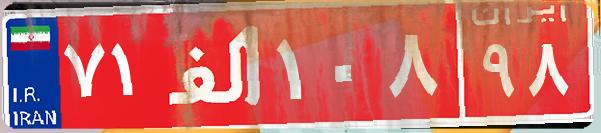0: (330, 28, 385, 110)
1: (273, 28, 330, 110), (110, 28, 158, 105)
7: (57, 26, 110, 107)
8: (385, 28, 445, 110), (525, 38, 570, 115)
9: (475, 38, 525, 113)
الف: (158, 15, 273, 115)
